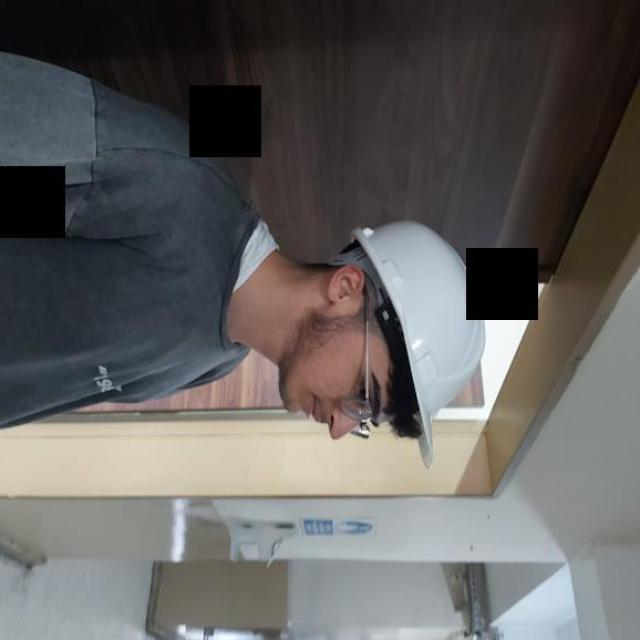helmet: (330, 218, 486, 468)
